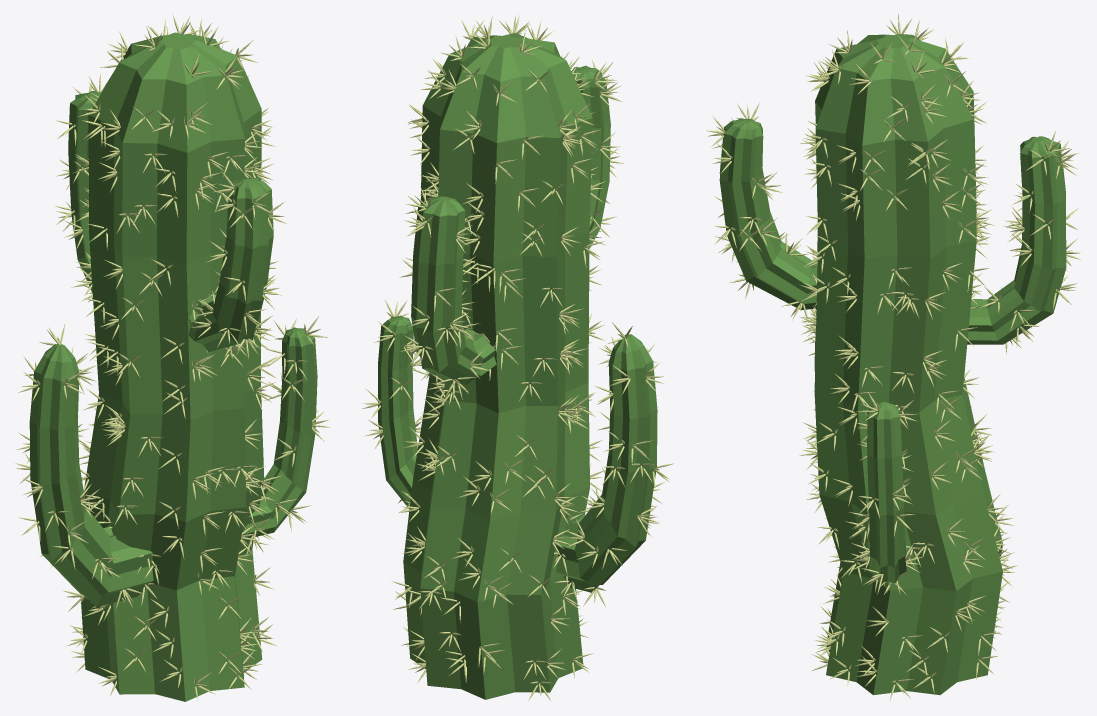
Rendered from Cactus_Tree_004.fbx.
3 views of the same model, side by side, from view 1: azimuth 30°, elevation 25°; view 2: azimuth 150°, elevation 25°; view 3: azimuth 270°, elevation 25° (orthographic).
Parts seen in each view (by area): view 1: Cactus_Tree_04; view 2: Cactus_Tree_04; view 3: Cactus_Tree_04.
Part boxes in pixels (<box>): Cactus_Tree_04: <box>15,14,330,701</box>; Cactus_Tree_04: <box>362,15,674,700</box>; Cactus_Tree_04: <box>706,14,1080,700</box>.
Bounding box in the file's own units: 88.52 × 179 × 96.01.
